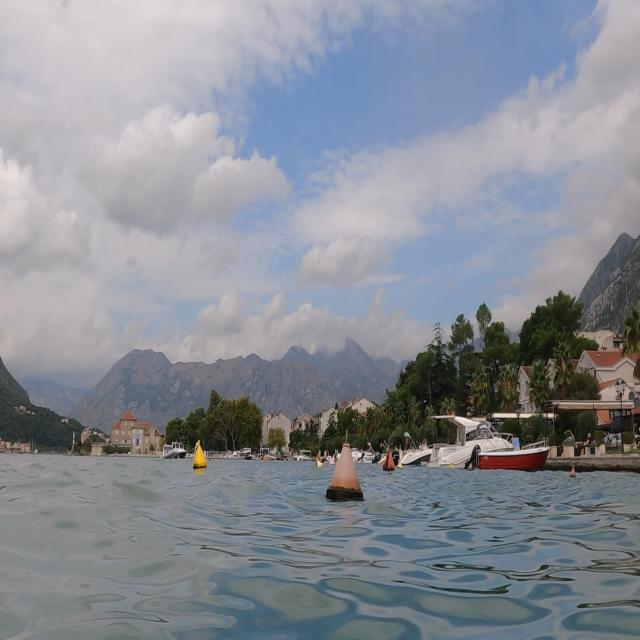boat: (465, 403, 562, 477), (428, 402, 518, 471), (154, 434, 192, 464)
buoy: (323, 435, 366, 508), (190, 433, 210, 477), (383, 444, 397, 474)
